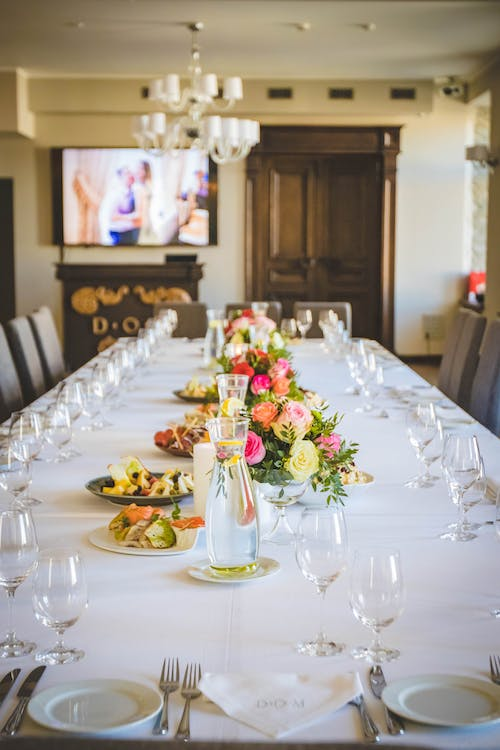knife: (0, 662, 49, 739), (367, 664, 407, 737), (0, 665, 24, 711)
